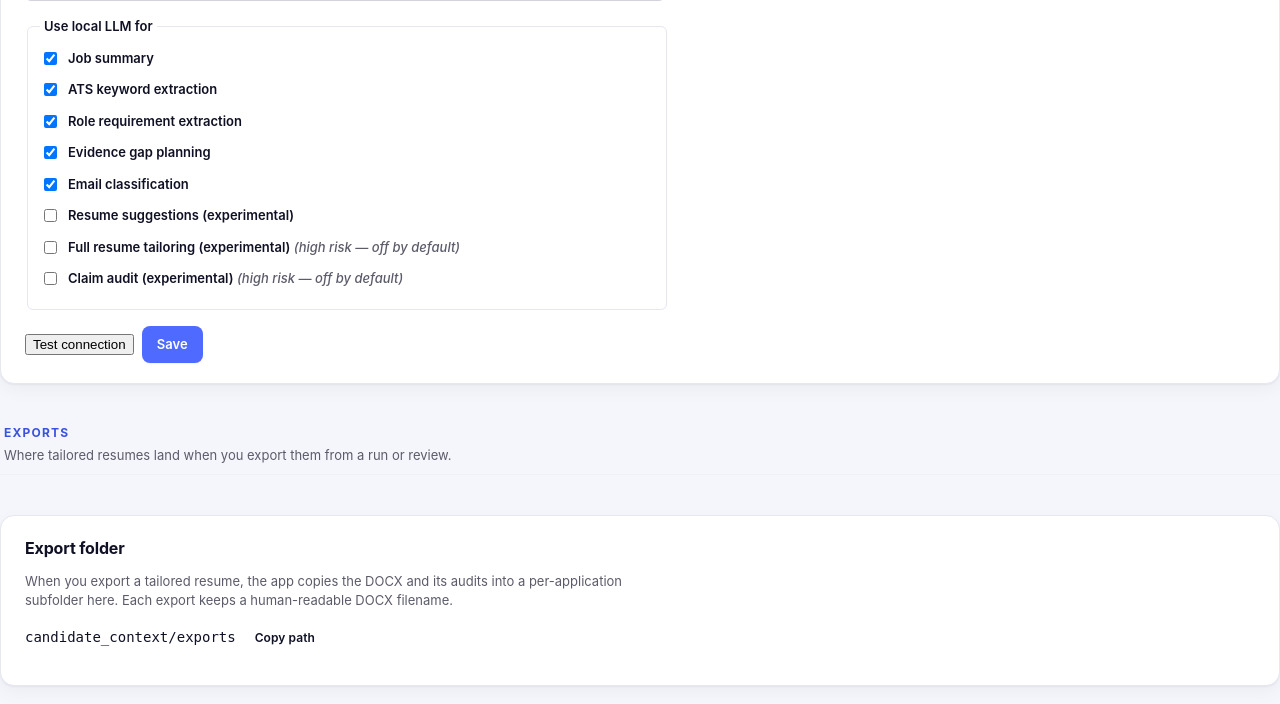
Test: SettingsPage – Local LLM card › renders a distinct endpoint_unavailable connection failure
(page scrolled)
Click the button "Test connection". click: (79, 344)
box: 25,334 -> 134,355
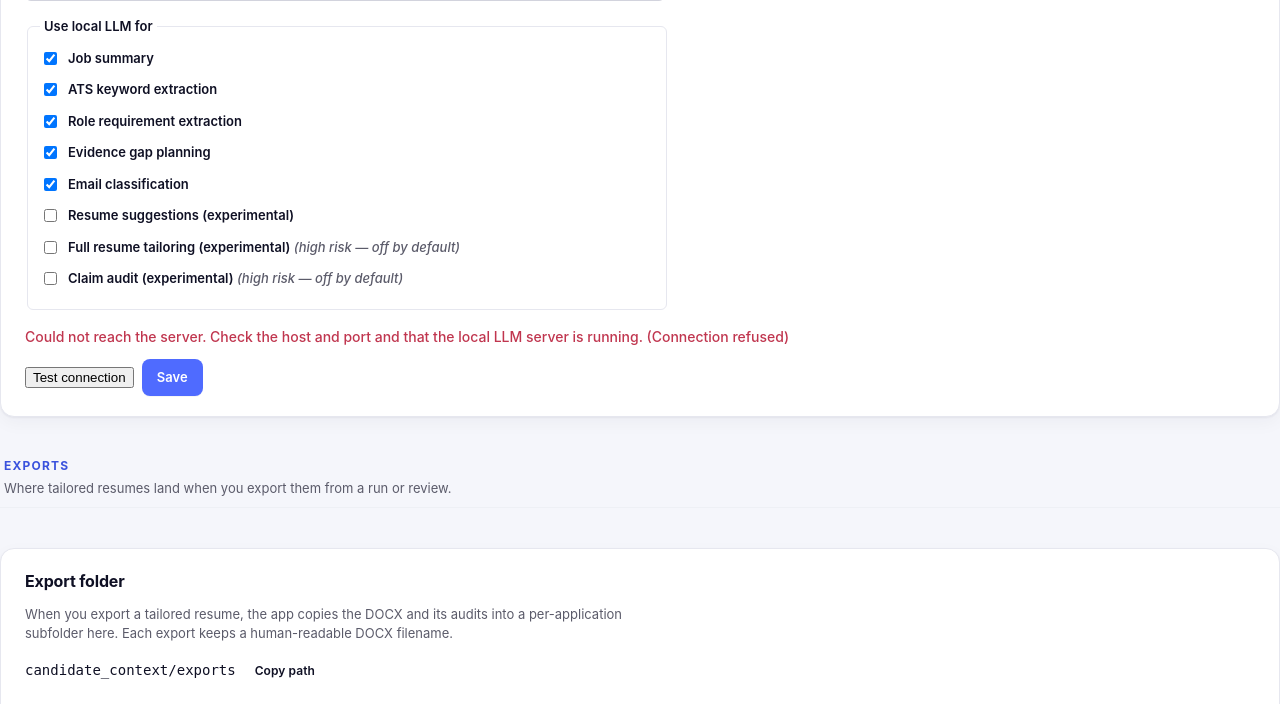
Expected: the message with test id "test-connection-result" shows "Could not reach the server", 25,328 -> 789,344
